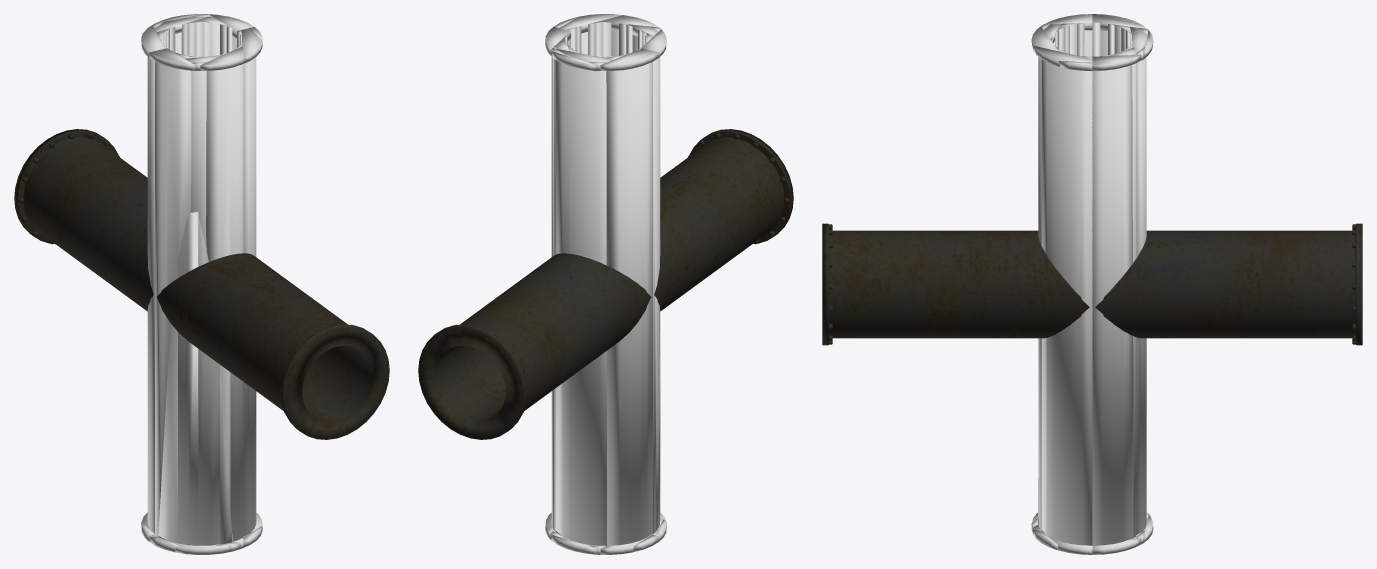
Rendered from SM_Pipes_Medium_Basic.fbx.
3 views of the same model, side by side, from view 1: azimuth 30°, elevation 25°; view 2: azimuth 150°, elevation 25°; view 3: azimuth 270°, elevation 25° (orthographic).
Parts seen in each view (by area): view 1: SM_Pipes_Medium_Basic_ConvexHulls, SM_Pipes_Medium_Basic; view 2: SM_Pipes_Medium_Basic_ConvexHulls, SM_Pipes_Medium_Basic; view 3: SM_Pipes_Medium_Basic_ConvexHulls, SM_Pipes_Medium_Basic.
Part boxes in pixels (x1,y1,x2,y2): SM_Pipes_Medium_Basic_ConvexHulls: [141, 14, 262, 554]; SM_Pipes_Medium_Basic: [14, 129, 389, 439]; SM_Pipes_Medium_Basic_ConvexHulls: [545, 14, 666, 554]; SM_Pipes_Medium_Basic: [418, 129, 793, 439]; SM_Pipes_Medium_Basic_ConvexHulls: [1031, 14, 1153, 554]; SM_Pipes_Medium_Basic: [822, 223, 1362, 345].
Size of the model in its own units: 0.4502 by 2 by 2.
